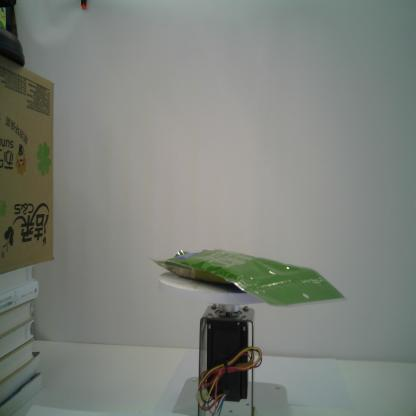Dried Fruit: (145, 246, 349, 309)
